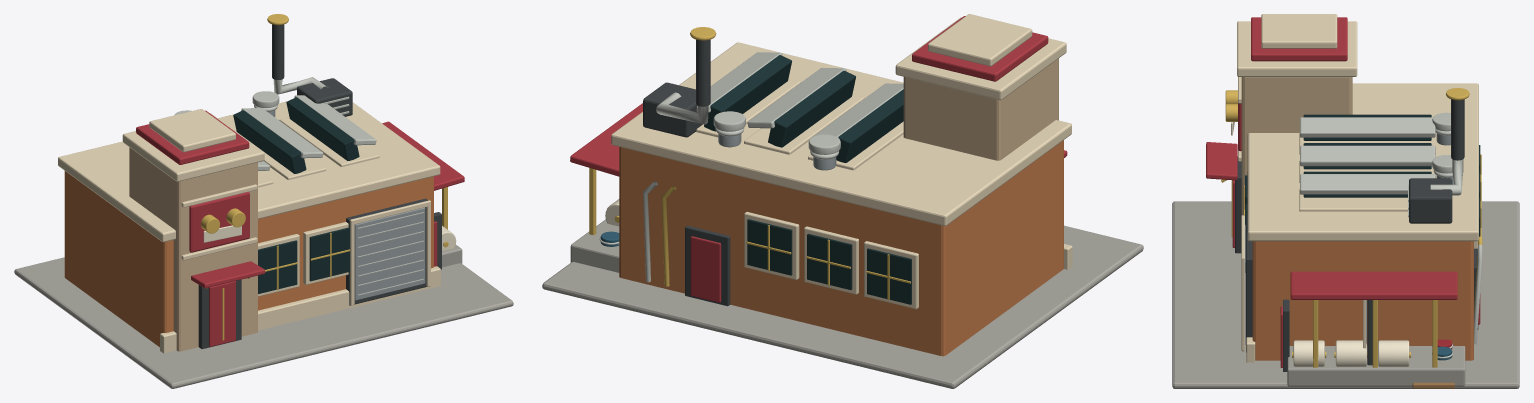
File: print_shop.ad7b8ef7e7e4.glb
3 renders of one model, left to right at view 1: azimuth 30°, elevation 25°; view 2: azimuth 150°, elevation 25°; view 3: azimuth 270°, elevation 25°, orthographic. The views are drawn at different scales.
Visible parts, largest first — view 1: Printworks site slab, Main print hall, Hall cornice, Stepped administration tower, Paper receiving bay steel shutter, Limestone plinth, Tower crown, Tower deco crown tier 1, Print emblem backplate, Clerestory dark glazing, Clerestory dark glazing.002, Production window deep glass.001 (+19 smaller); view 2: Main print hall, Hall cornice, Printworks site slab, Stepped administration tower, Tower crown, Tower deco crown tier 1, Clerestory dark glazing.002, Tower deco crown tier 0, Clerestory dark glazing, Clerestory dark glazing.001, Rear print hall window deep glass.002, Rear print hall window deep glass (+22 smaller); view 3: Printworks site slab, Main print hall, Hall cornice, Stepped administration tower, Side loading canopy, Side loading deck, Clerestory warm roof.002, Tower crown, Clerestory warm roof.001, Tower deco crown tier 1, Clerestory warm roof, Tower deco crown tier 0 (+24 smaller).
Boxes of the visible parts, left/top/right/bottom form: Printworks site slab: left=14, top=257, right=513, bottom=388; Main print hall: left=64, top=171, right=433, bottom=347; Hall cornice: left=58, top=101, right=440, bottom=242; Stepped administration tower: left=129, top=147, right=257, bottom=351; Paper receiving bay steel shutter: left=354, top=207, right=425, bottom=300; Limestone plinth: left=160, top=266, right=440, bottom=353; Tower crown: left=122, top=113, right=264, bottom=181; Tower deco crown tier 1: left=149, top=109, right=235, bottom=152; Print emblem backplate: left=189, top=192, right=249, bottom=252; Clerestory dark glazing: left=286, top=97, right=359, bottom=160; Clerestory dark glazing.002: left=233, top=110, right=306, bottom=173; Production window deep glass.001: left=309, top=227, right=349, bottom=281; Main print hall: left=619, top=140, right=1063, bottom=356; Hall cornice: left=611, top=42, right=1071, bottom=225; Printworks site slab: left=542, top=225, right=1143, bottom=388; Stepped administration tower: left=903, top=58, right=1058, bottom=160; Tower crown: left=895, top=17, right=1066, bottom=100; Tower deco crown tier 1: left=928, top=14, right=1032, bottom=66; Clerestory dark glazing.002: left=768, top=70, right=855, bottom=147; Tower deco crown tier 0: left=912, top=16, right=1048, bottom=81; Clerestory dark glazing: left=704, top=55, right=791, bottom=131; Clerestory dark glazing.001: left=836, top=89, right=903, bottom=162; Rear print hall window deep glass.002: left=747, top=219, right=792, bottom=275; Rear print hall window deep glass: left=867, top=248, right=911, bottom=304; Printworks site slab: left=1172, top=201, right=1519, bottom=388; Main print hall: left=1252, top=241, right=1473, bottom=360; Hall cornice: left=1247, top=83, right=1478, bottom=241; Stepped administration tower: left=1241, top=77, right=1352, bottom=215; Side loading canopy: left=1290, top=271, right=1457, bottom=299; Side loading deck: left=1287, top=346, right=1465, bottom=386; Clerestory warm roof.002: left=1300, top=145, right=1435, bottom=166; Tower crown: left=1237, top=21, right=1357, bottom=76; Clerestory warm roof.001: left=1300, top=117, right=1435, bottom=137; Tower deco crown tier 1: left=1261, top=14, right=1337, bottom=48; Clerestory warm roof: left=1300, top=174, right=1435, bottom=194; Tower deco crown tier 0: left=1251, top=17, right=1347, bottom=61.
Size of the model in its own units: 20.28 by 12.24 by 16.
